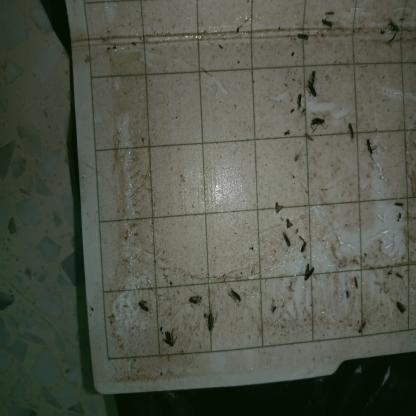prays_oleae: (158, 327, 179, 354), (389, 293, 409, 319), (136, 294, 152, 326), (305, 64, 320, 98), (309, 110, 330, 134), (227, 287, 244, 314), (363, 136, 381, 161), (203, 305, 217, 337), (301, 259, 316, 286), (386, 16, 401, 43), (320, 13, 337, 36), (293, 26, 311, 47), (185, 291, 203, 311), (345, 119, 357, 148), (278, 228, 292, 251), (298, 230, 308, 259)
